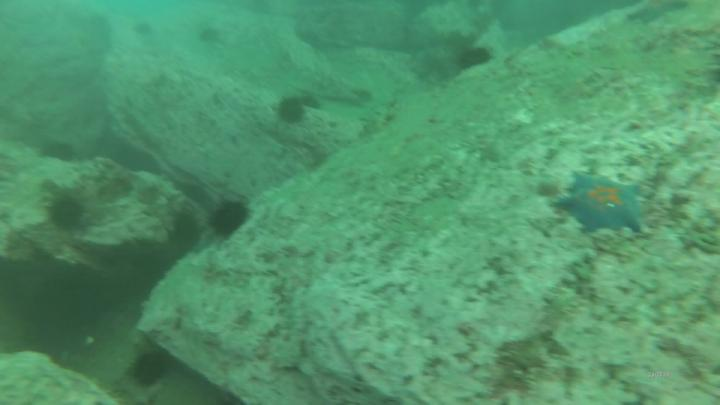echinus: (212, 203, 247, 234), (132, 354, 163, 387), (52, 204, 81, 228), (278, 98, 304, 124), (460, 48, 492, 66)
starfish: (559, 173, 645, 233)
